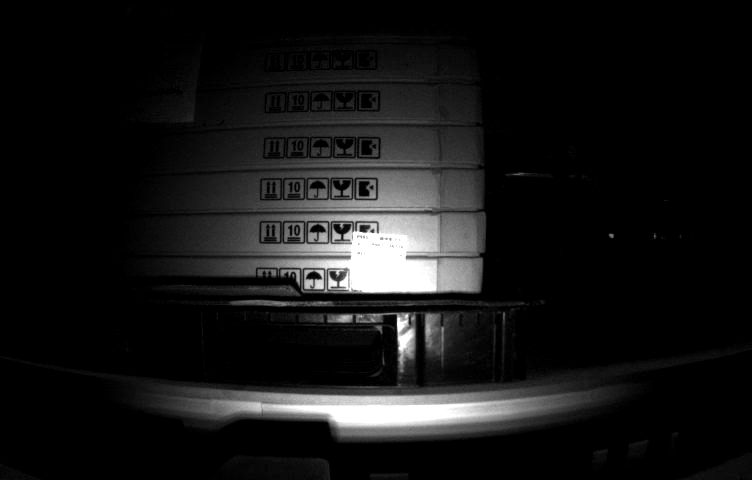True Barcode: (350, 228, 409, 288)
